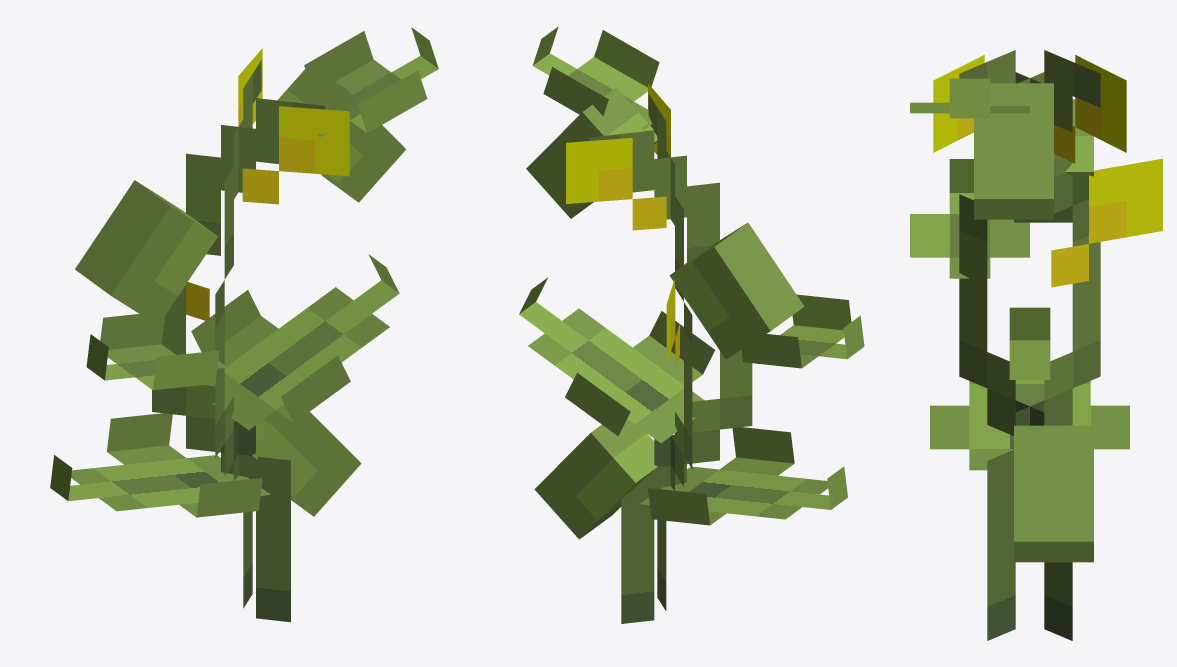
File: cucumber-stage3.gltf
3 renders of one model, left to right at view 1: azimuth 30°, elevation 25°; view 2: azimuth 150°, elevation 25°; view 3: azimuth 270°, elevation 25°, orthographic. The views are drawn at different scales.
Visible parts, largest first — view 1: cube (×12); view 2: cube (×11); view 3: cube (×12).
Part boxes in pixels (x1,y1,x2,y2): cube (×12): [50, 27, 438, 622]; cube (×11): [519, 26, 864, 623]; cube (×12): [910, 50, 1162, 640].
Size of the model in its own units: 0.691 by 1.09 by 0.3954.
1 material, 1 textured.
